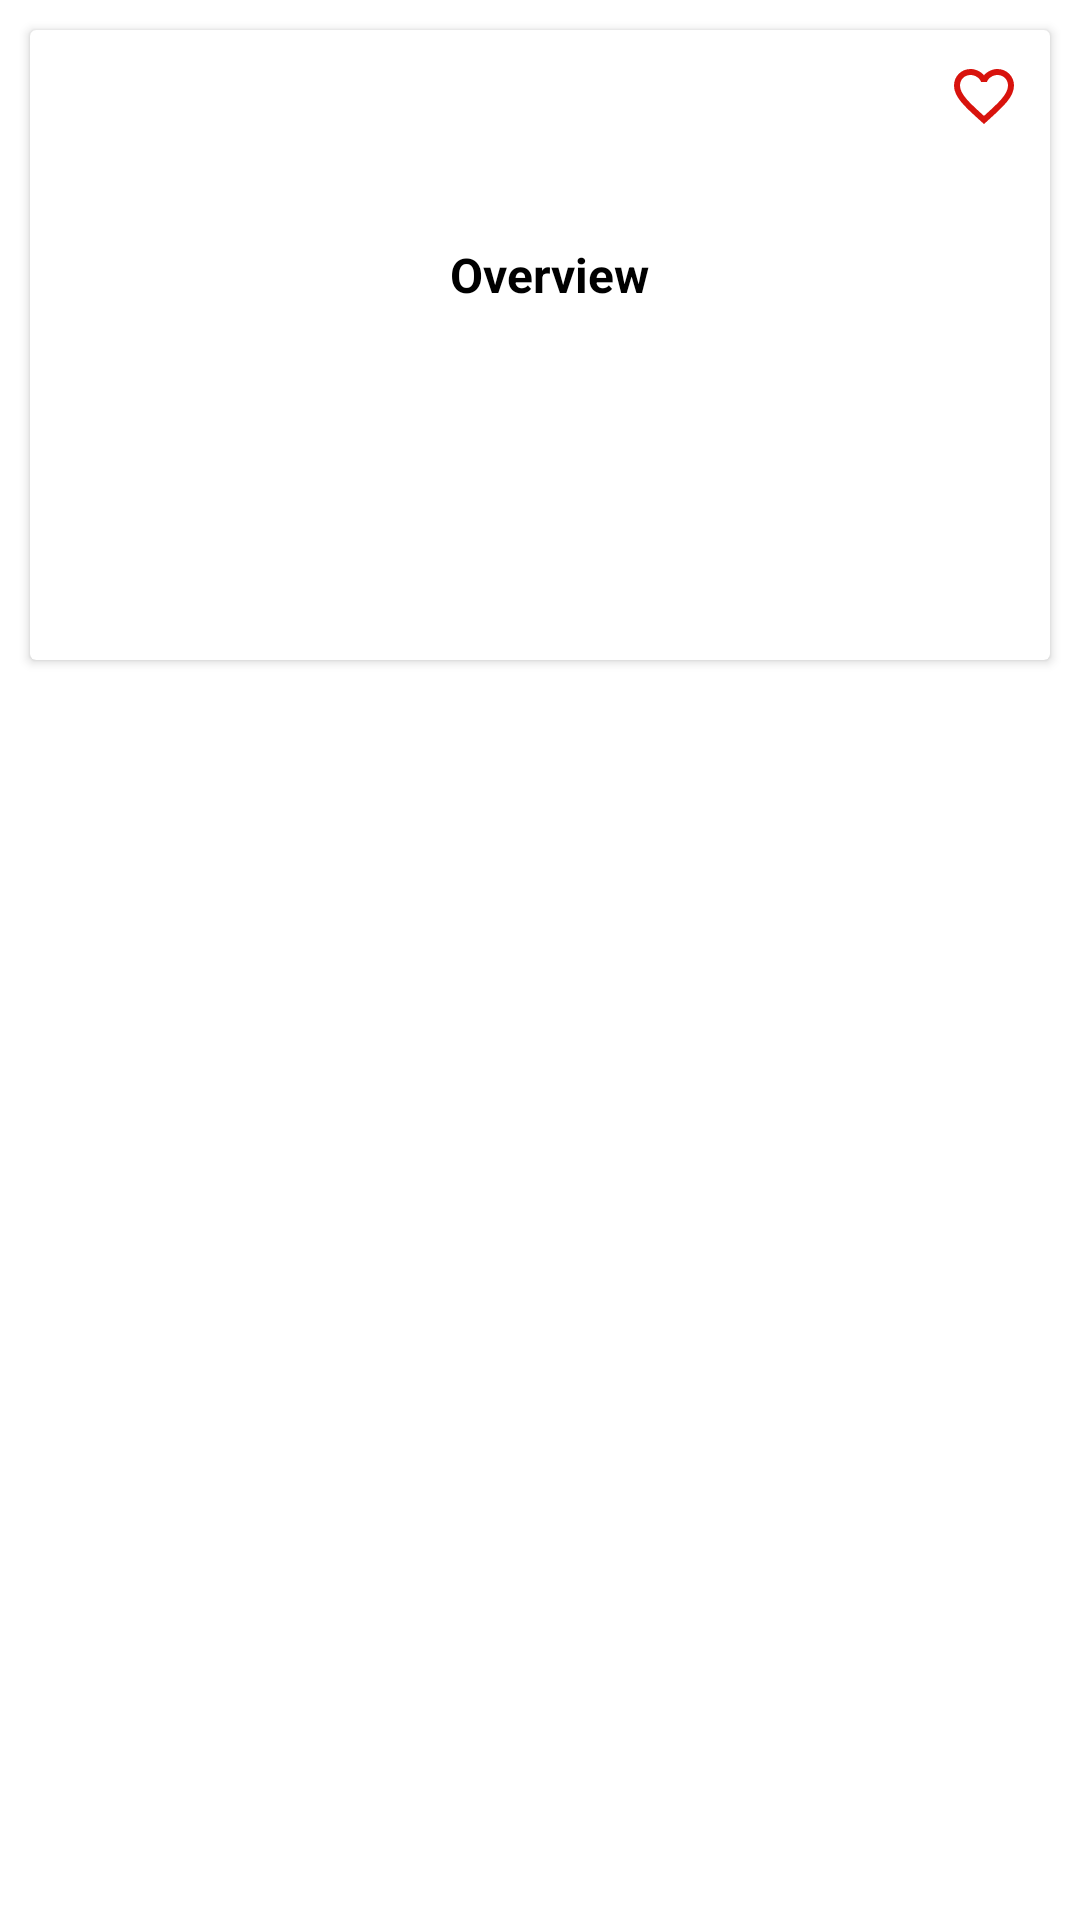

Icons on this 1080×1920 Android screen, each with its box as (x1, y1, x2, y2):
favorite: (954, 69, 1014, 124)
